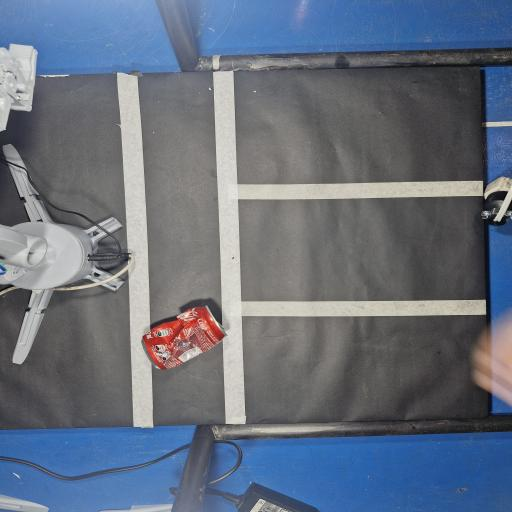lata_defectuoso: (143, 306, 225, 369)
